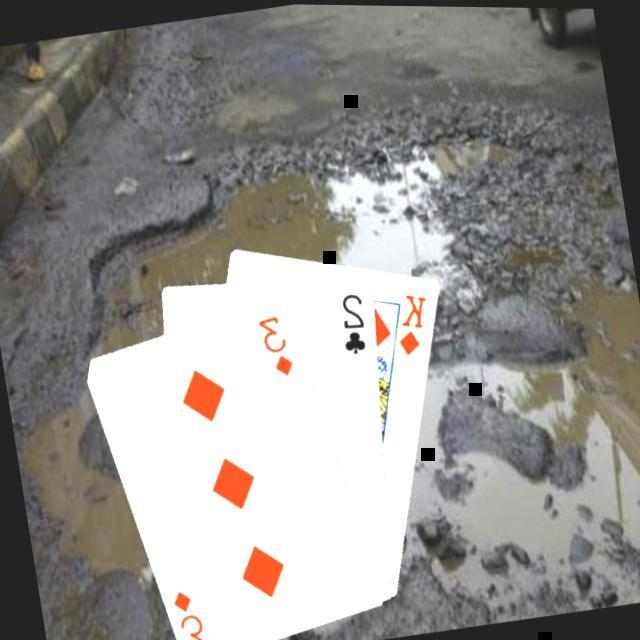2C: (336, 286, 376, 356)
3D: (256, 307, 300, 380), (170, 581, 214, 640)
KD: (390, 284, 440, 358)
